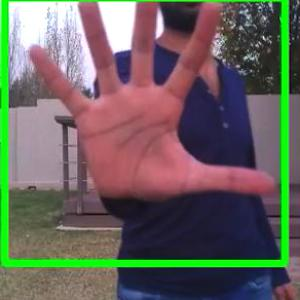follow_hand: (24, 0, 276, 211)
